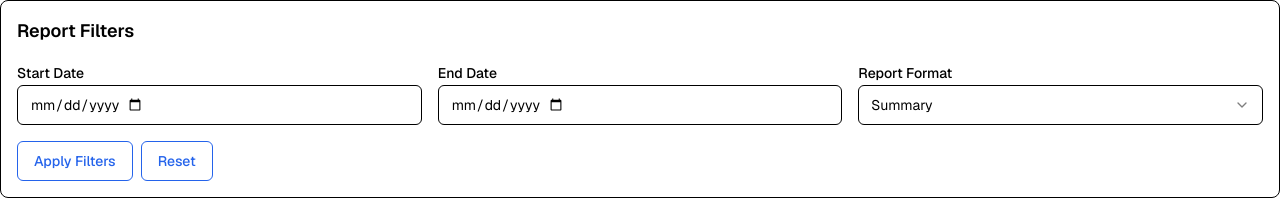
ReportFilters › should reset filters when Reset is clicked
Note: Set some filters
Type "2026-01-01" into the date field labelled "Start Date" at (219, 105), box [17, 85, 422, 125]
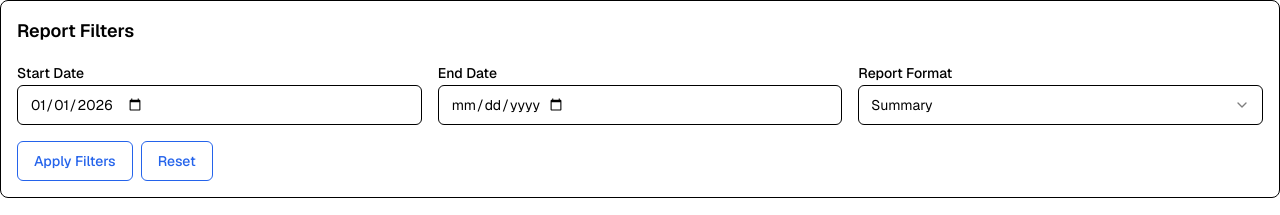
Note: Click reset
Click the button "Reset" at (177, 161), box [141, 141, 213, 181]
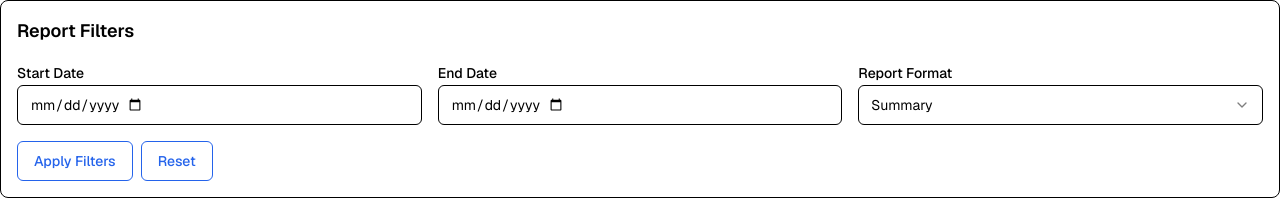
Check: the date field labelled "Start Date" is empty, box [17, 85, 422, 125]
